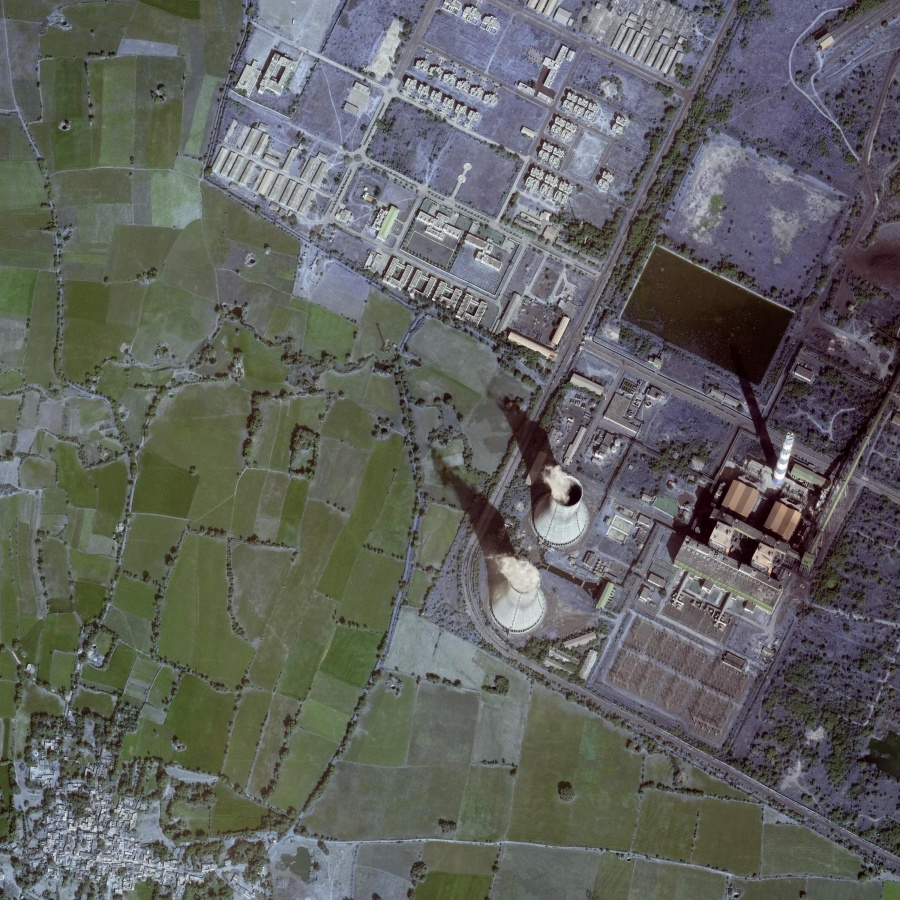PowerPlant: (457, 229, 894, 687)
